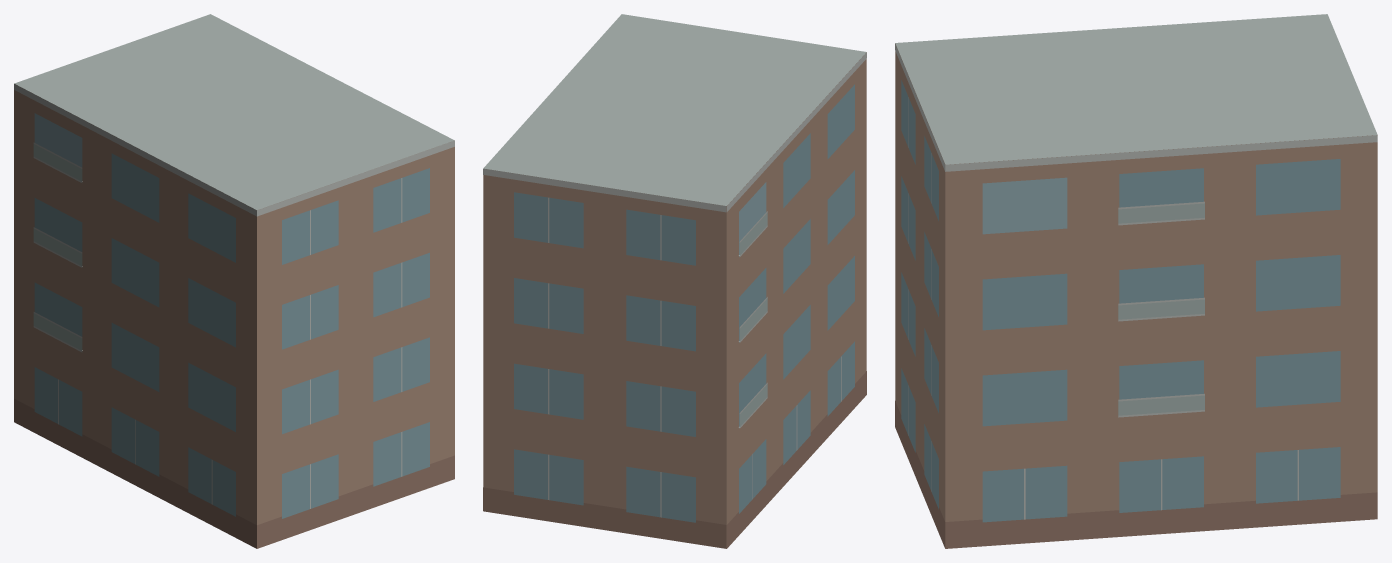
The model's file is survey-upis-32746700.glb.
3 views of the same model, side by side, from view 1: azimuth 30°, elevation 25°; view 2: azimuth 150°, elevation 25°; view 3: azimuth 270°, elevation 25° (orthographic). The views are drawn at different scales.
Visible parts, largest first — view 1: survey-upis-32746700.tmp; view 2: survey-upis-32746700.tmp; view 3: survey-upis-32746700.tmp.
Boxes of the visible parts, x1,y1,x2,y2 form: survey-upis-32746700.tmp: (14, 14, 454, 548); survey-upis-32746700.tmp: (483, 14, 866, 548); survey-upis-32746700.tmp: (895, 14, 1377, 548).
Size of the model in its own units: 11.09 by 13.17 by 15.01.
